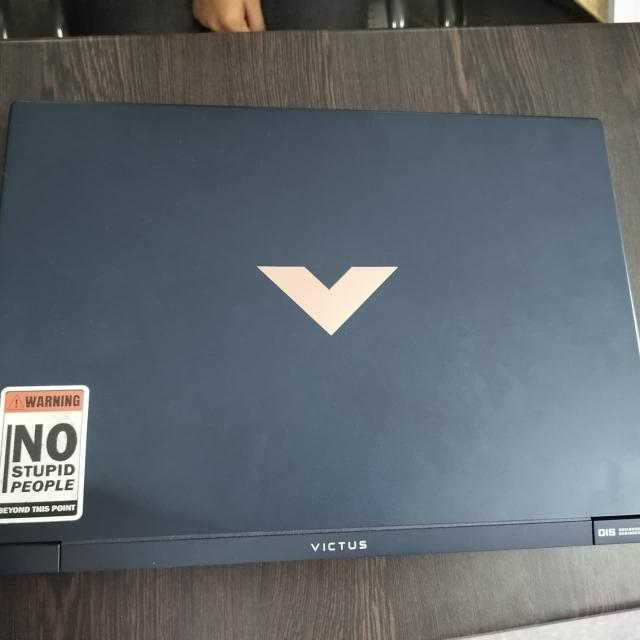laptop: (1, 76, 636, 558)
